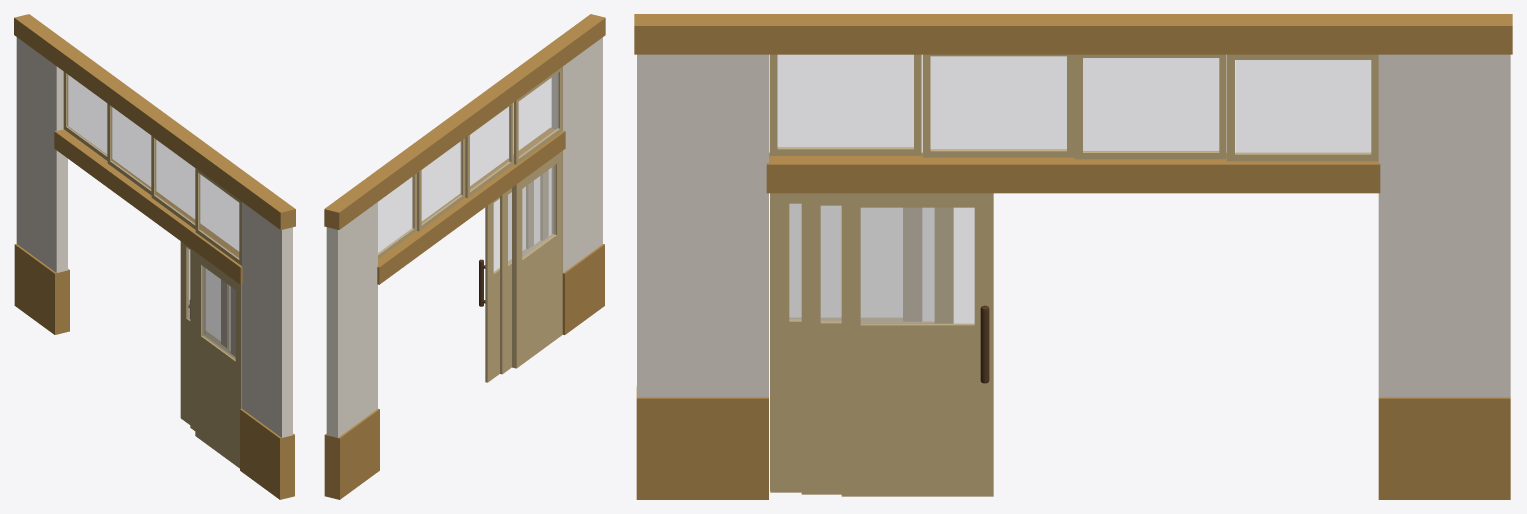
The model's file is 教室入口open.fbx.
The picture shows the model from 3 angles, left to right: view 1: azimuth 30°, elevation 25°; view 2: azimuth 150°, elevation 25°; view 3: azimuth 270°, elevation 25°; orthographic projection. The views are drawn at different scales.
Parts seen in each view (by area): view 1: 壁上02, 壁上01, 上の窓枠.001, 扉04, 上の窓枠, 壁下01, 02, 窓04, 扉01, 上窓ガラス.002, 上窓ガラス.003, 上窓ガラス.001 (+7 smaller); view 2: 壁上01, 上の窓枠.001, 壁上02, 扉04, 上の窓枠, 壁下01, 扉01, 02, 扉02, 窓04, 上窓ガラス.003, 上窓ガラス.002 (+9 smaller); view 3: 壁上01, 壁上02, 上の窓枠.001, 扉01, 上の窓枠, 02, 壁下01, 窓01, 上窓ガラス, 上窓ガラス.001, 上窓ガラス.002, 上窓ガラス.003 (+9 smaller).
Boxes of the visible parts, <box> form: 壁上02: <box>242,202,292,437</box>; 壁上01: <box>16,37,67,272</box>; 上の窓枠.001: <box>14,14,295,229</box>; 扉04: <box>195,252,241,468</box>; 上の窓枠: <box>54,129,242,284</box>; 壁下01: <box>14,244,69,334</box>; 02: <box>240,408,294,499</box>; 窓04: <box>202,266,235,359</box>; 扉01: <box>180,241,228,424</box>; 上窓ガラス.002: <box>155,139,194,223</box>; 上窓ガラス.003: <box>199,174,238,258</box>; 上窓ガラス.001: <box>111,106,150,189</box>; 壁上01: <box>326,202,377,437</box>; 上の窓枠.001: <box>324,14,605,229</box>; 壁上02: <box>551,37,602,272</box>; 扉04: <box>514,151,562,368</box>; 上の窓枠: <box>377,127,565,284</box>; 壁下01: <box>324,408,379,499</box>; 扉01: <box>485,181,533,382</box>; 02: <box>562,244,604,334</box>; 扉02: <box>500,170,548,374</box>; 窓04: <box>522,165,555,258</box>; 上窓ガラス.003: <box>519,72,558,157</box>; 上窓ガラス.002: <box>470,106,509,190</box>; 壁上01: <box>1378,54,1510,397</box>; 壁上02: <box>637,54,768,397</box>; 上の窓枠.001: <box>634,14,1512,54</box>; 扉01: <box>841,193,993,496</box>; 上の窓枠: <box>766,152,1380,193</box>; 02: <box>636,387,768,499</box>; 壁下01: <box>1378,397,1510,499</box>; 窓01: <box>861,208,974,324</box>; 上窓ガラス: <box>1235,60,1370,153</box>; 上窓ガラス.001: <box>1083,58,1218,151</box>; 上窓ガラス.002: <box>931,56,1066,149</box>; 上窓ガラス.003: <box>778,55,913,147</box>.
Size of the model in its own units: 0.5779 by 7.92 by 13.31.
